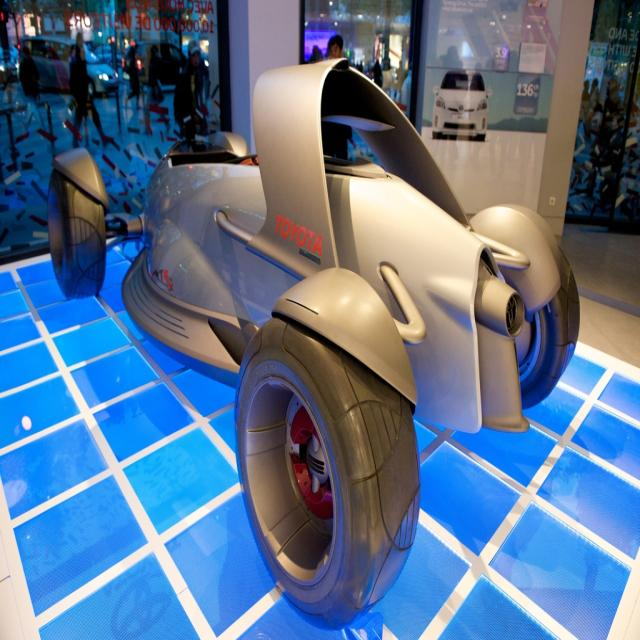car: (44, 55, 580, 627)
